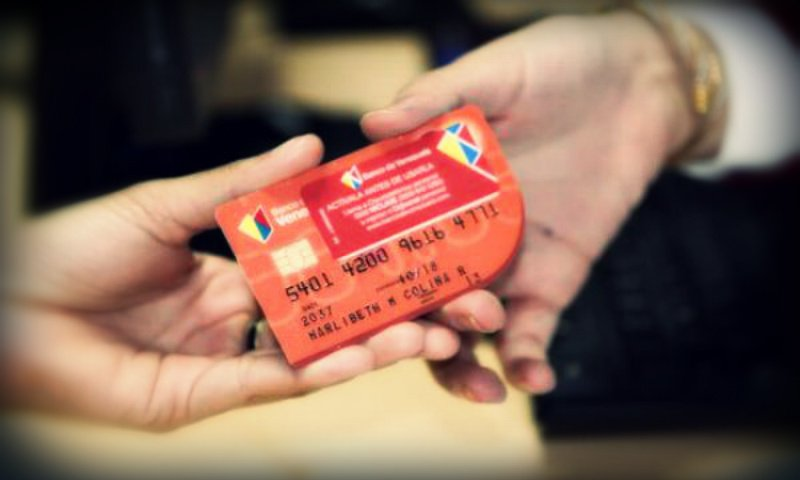tarjeta: (213, 106, 526, 369)
